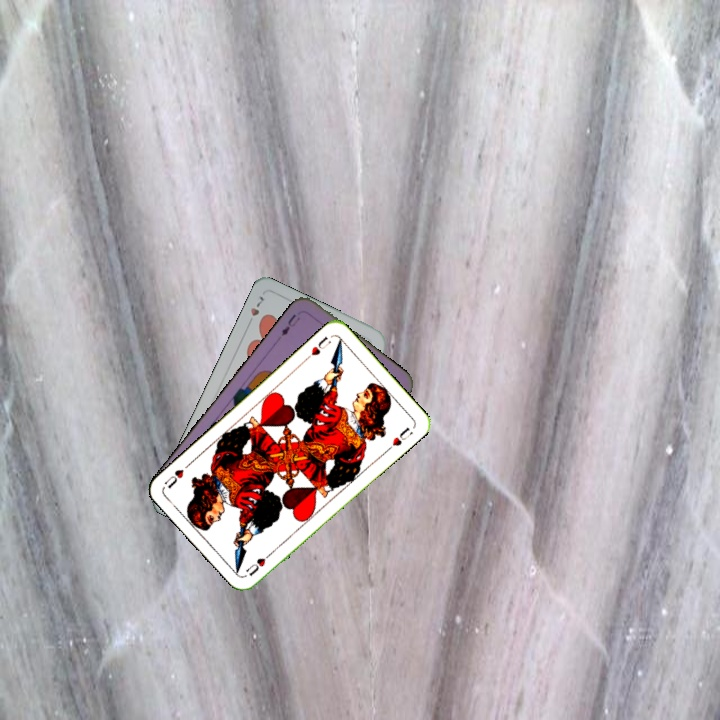EU: (277, 310, 303, 339)
H7: (243, 292, 266, 329)
HU: (242, 548, 275, 579), (301, 332, 333, 363)
